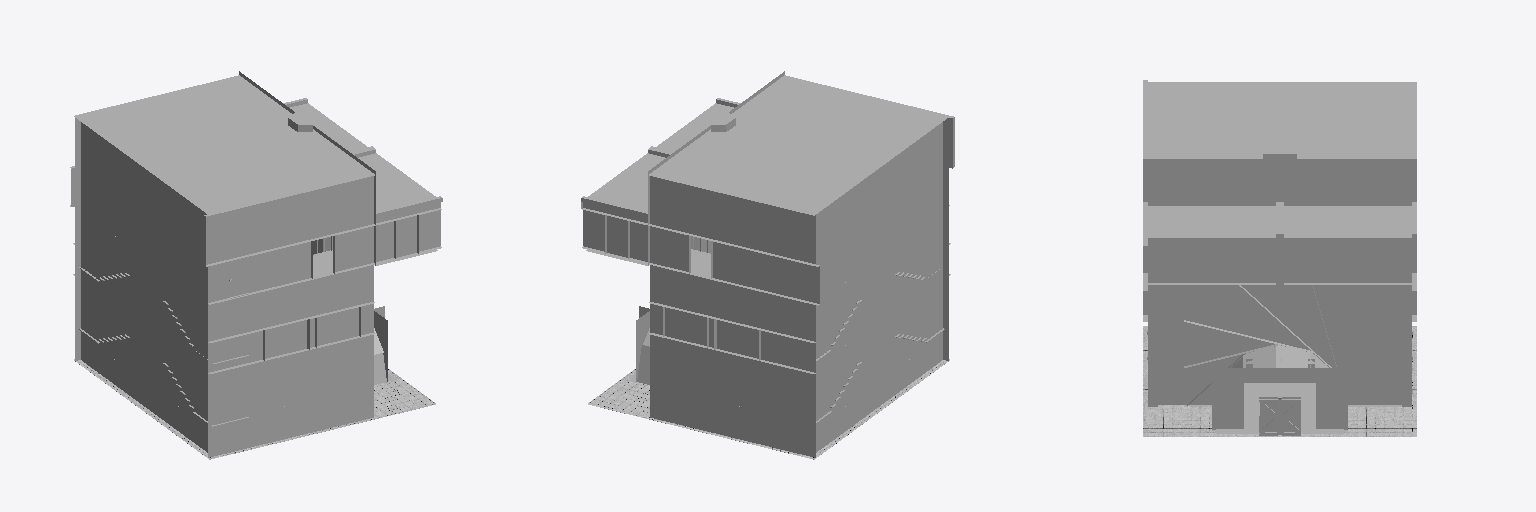
3 renders of one model, left to right at view 1: azimuth 30°, elevation 25°; view 2: azimuth 150°, elevation 25°; view 3: azimuth 270°, elevation 25°, orthographic.
Size of the model in its own units: 2048 by 2081 by 2048.
Materials: 14 (1 with a texture image).